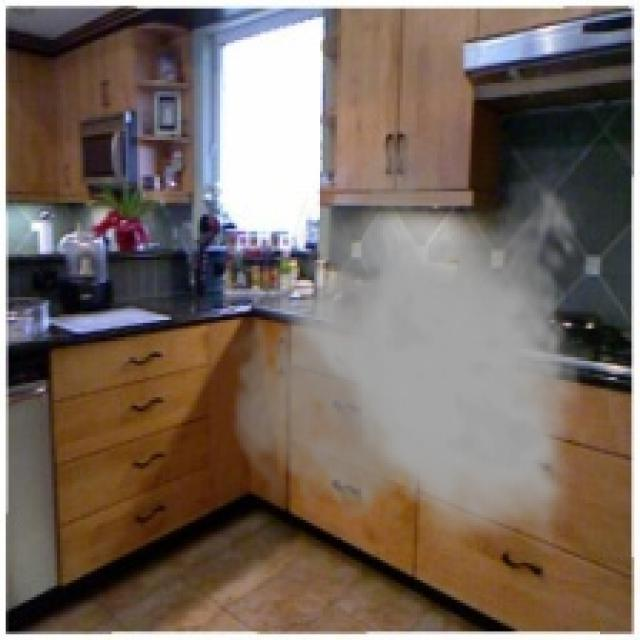Smoke: (228, 142, 588, 554)
